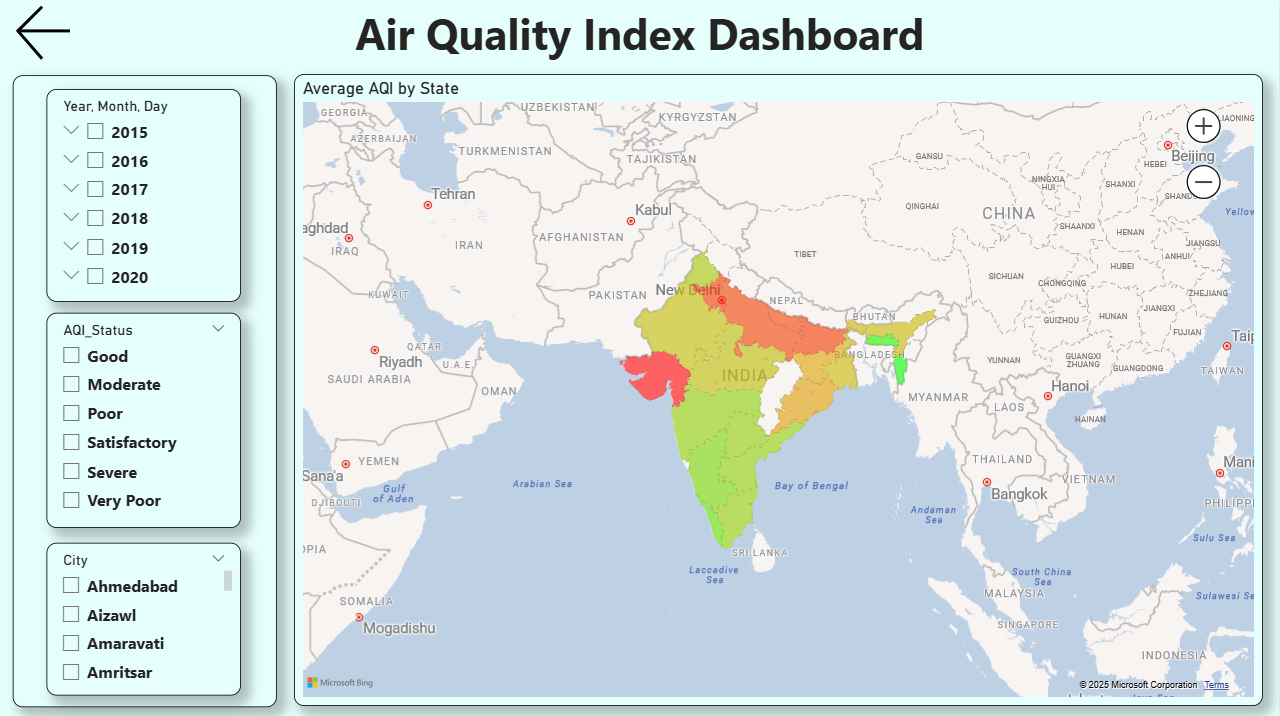

This screenshot's page, from the dashboard's own definition file:
{"tool":"powerbi","page":{"name":"Page 5","canvas":[1280,720],"ordinal":4},"visuals":[{"type":"textbox","box":[131.2,0,1018.8,67.5],"z":0},{"type":"actionButton","box":[0,0,90,67.5],"z":1000},{"type":"shape","box":[13.5,75.8,264.1,632.2],"z":2000},{"type":"slicer","fields":{"Values":["In.Date.Variation.Date Hierarchy.Year","In.Date.Variation.Date Hierarchy.Month","In.Date.Variation.Date Hierarchy.Day"]},"box":[47.7,90.5,194.4,212.8],"z":3000},{"type":"slicer","fields":{"Values":["In.AQI_Status"]},"box":[47.7,314.3,194.4,215.2],"z":4000},{"type":"slicer","fields":{"Values":["In.City"]},"box":[47.7,544.2,194.4,152.9],"z":5000},{"type":"filledMap","title":"Average AQI by State","fields":{"Category":["In.State"]},"box":[295.1,75.3,969.1,632.1],"z":6000}]}

Visuals, with their boxes in screenshot pixels (x1, y1, x2, y2), scaled from the page's 1280x720 canvas onto the 1280x716 screenshot:
textbox: <bbox>131, 0, 1150, 67</bbox>
actionButton: <bbox>0, 0, 90, 67</bbox>
shape: <bbox>14, 75, 278, 704</bbox>
slicer - In.Date.Variation.Date Hierarchy.Year x In.Date.Variation.Date Hierarchy.Month: <bbox>48, 90, 242, 302</bbox>
slicer - In.AQI_Status: <bbox>48, 313, 242, 527</bbox>
slicer - In.City: <bbox>48, 541, 242, 693</bbox>
"Average AQI by State" filledMap: <bbox>295, 75, 1264, 703</bbox>
